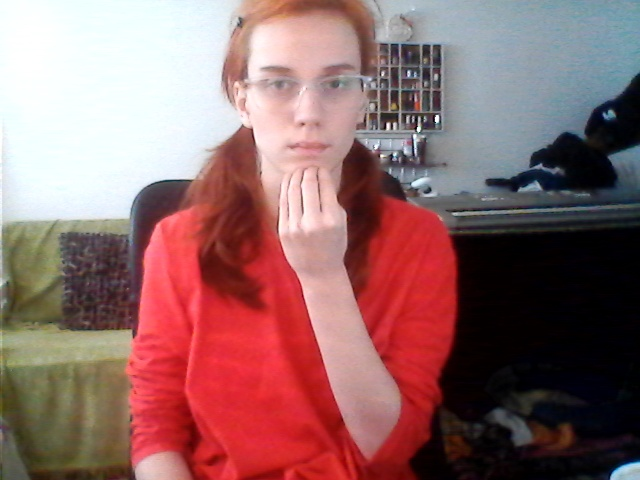c: (269, 152, 358, 275)
